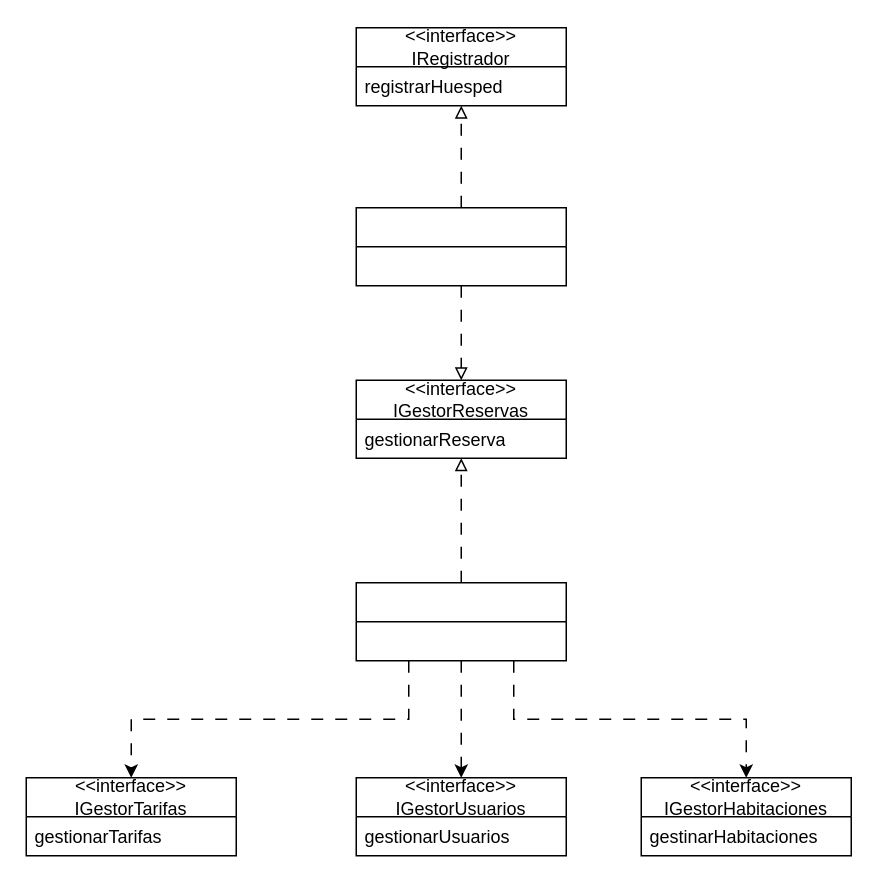
Some shapes in this 878 by 887 pixel diagram are drawn without their labels. Each missing label, with the centre of its shape:
"administrador" goes at [460,621].
"recepcionista" goes at [460,246].
